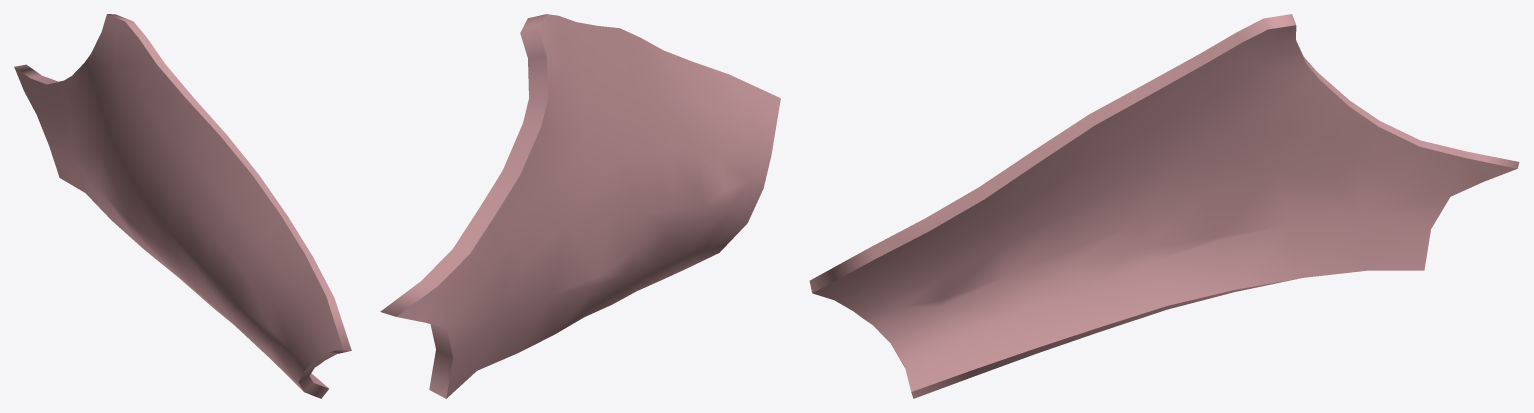
3 renders of one model, left to right at view 1: azimuth 30°, elevation 25°; view 2: azimuth 150°, elevation 25°; view 3: azimuth 270°, elevation 25°, orthographic. The views are drawn at different scales.
Parts seen in each view (by area): view 1: ZA_3edc788b6143fad5; view 2: ZA_3edc788b6143fad5; view 3: ZA_3edc788b6143fad5.
Part boxes in pixels (<box>): ZA_3edc788b6143fad5: <box>14,14,351,398</box>; ZA_3edc788b6143fad5: <box>380,14,780,398</box>; ZA_3edc788b6143fad5: <box>809,14,1519,398</box>.
Size of the model in its own units: 0.0207 by 0.0714 by 0.1315.
